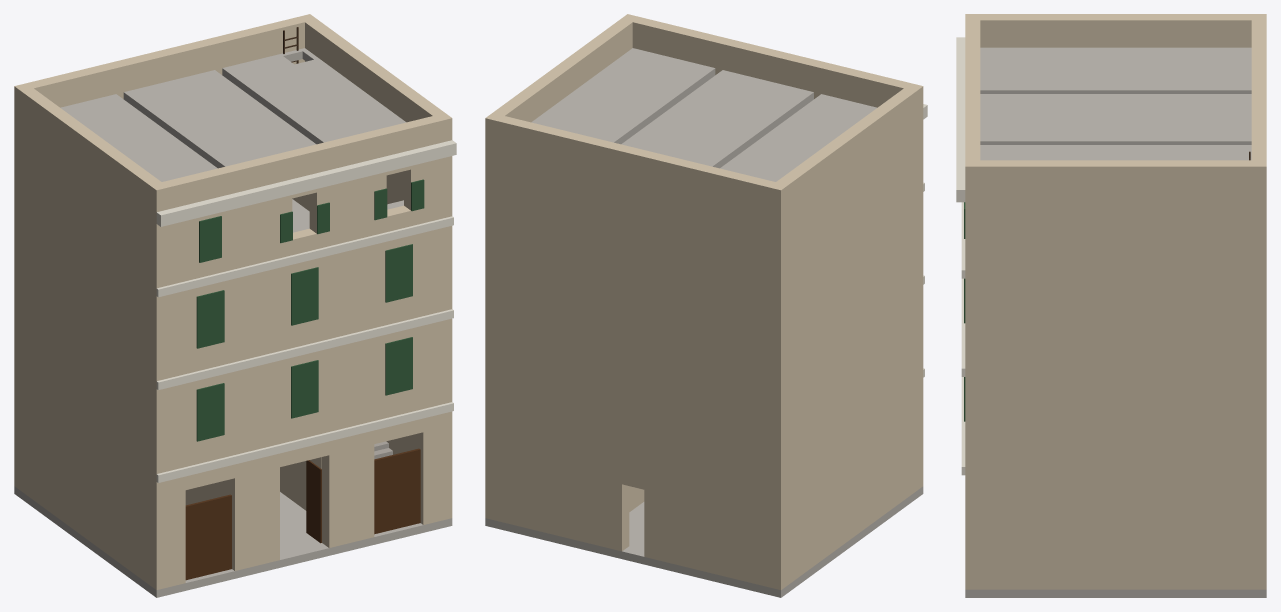
Rendered from edificio.obj.
3 renders of one model, left to right at view 1: azimuth 30°, elevation 25°; view 2: azimuth 150°, elevation 25°; view 3: azimuth 270°, elevation 25°, orthographic. The views are drawn at different scales.
Parts seen in each view (by area): view 1: muro_44, muro_27, muro_14, muro_1, muro_40, solaio_77, muro_41, solaio_78, solaio_76, solaio_0, muro_45, cornicione_173 (+35 smaller); view 2: muro_41, muro_43, muro_44, solaio_77, muro_42, solaio_78, solaio_76, muro_45, solaio_0, muro_1, solaio_79, muro_27 (+5 smaller); view 3: muro_45, solaio_77, solaio_76, muro_44, muro_43, muro_40, solaio_78, solaio_0, cornicione_173, muro_41.
Part boxes in pixels (bbox=[...]): muro_44: bbox=[21, 88, 161, 584]; muro_27: bbox=[322, 132, 374, 547]; muro_14: bbox=[227, 155, 279, 570]; muro_1: bbox=[149, 178, 185, 590]; muro_40: bbox=[416, 113, 452, 524]; solaio_77: bbox=[123, 70, 315, 168]; muro_41: bbox=[14, 53, 158, 490]; solaio_78: bbox=[222, 54, 381, 144]; solaio_76: bbox=[60, 94, 217, 181]; solaio_0: bbox=[14, 486, 452, 597]; muro_45: bbox=[305, 19, 444, 454]; cornicione_173: bbox=[156, 140, 456, 226]; muro_41: bbox=[644, 152, 788, 589]; muro_43: bbox=[485, 113, 629, 551]; muro_44: bbox=[776, 88, 916, 584]; solaio_77: bbox=[621, 70, 813, 168]; muro_42: bbox=[622, 146, 650, 489]; solaio_78: bbox=[556, 54, 715, 144]; solaio_76: bbox=[720, 94, 876, 181]; muro_45: bbox=[493, 19, 632, 122]; solaio_0: bbox=[485, 486, 923, 597]; muro_1: bbox=[887, 79, 923, 490]; solaio_79: bbox=[536, 49, 656, 128]; muro_27: bbox=[698, 33, 750, 74]; muro_45: bbox=[980, 160, 1251, 589]; solaio_77: bbox=[980, 94, 1251, 144]; solaio_76: bbox=[980, 47, 1251, 93]; muro_44: bbox=[980, 14, 1251, 47]; muro_43: bbox=[1251, 96, 1266, 589]; muro_40: bbox=[965, 151, 980, 589]; solaio_78: bbox=[980, 145, 1251, 160]; solaio_0: bbox=[965, 589, 1266, 597]; cornicione_173: bbox=[956, 37, 965, 202]; muro_41: bbox=[1251, 14, 1266, 84].
Size of the model in its own units: 12 by 15.8 by 10.3.
